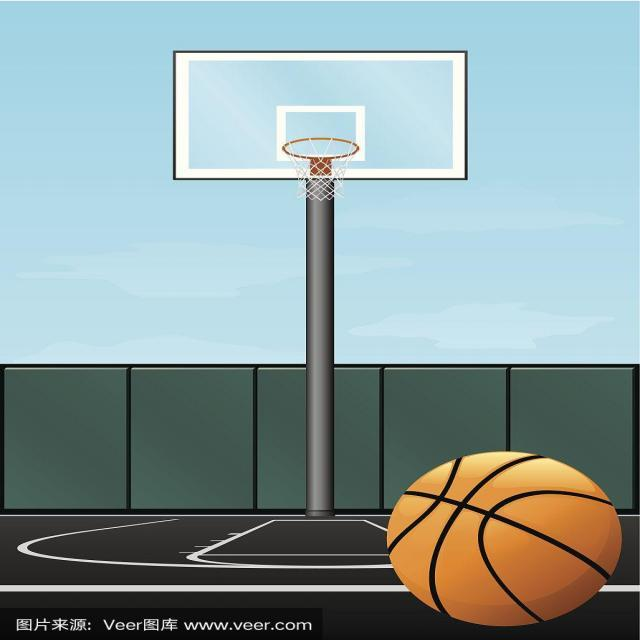rim: (385, 452, 620, 624)
